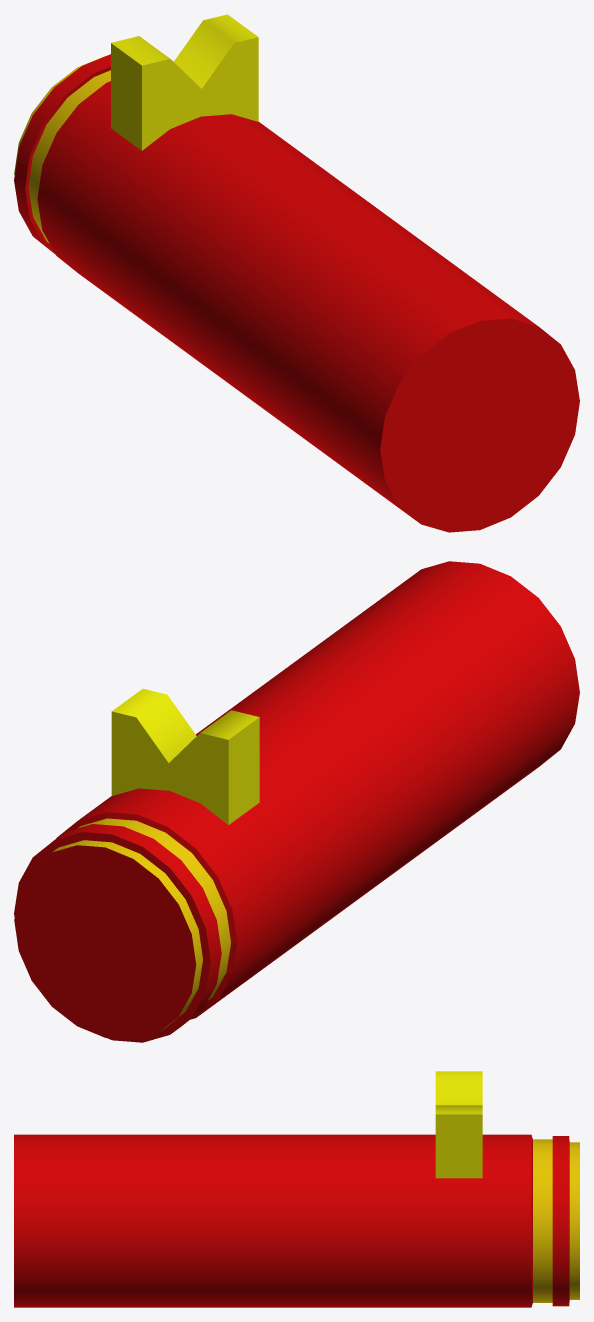
File: gun5.fbx
3 renders of one model, top to bottom at view 1: azimuth 30°, elevation 25°; view 2: azimuth 150°, elevation 25°; view 3: azimuth 270°, elevation 25°, orthographic. The views are drawn at different scales.
Parts seen in each view (by area): view 1: pCylinder6, pCube1; view 2: pCylinder6, pCube1; view 3: pCylinder6, pCube1.
Boxes of the visible parts, x1,y1,x2,y2 form: pCylinder6: (14, 54, 579, 532); pCube1: (111, 14, 258, 150); pCylinder6: (14, 561, 579, 1042); pCube1: (111, 688, 259, 824); pCylinder6: (14, 1134, 579, 1307); pCube1: (435, 1071, 482, 1178).
Size of the model in its own units: 1.25 by 1.63 by 4.04.
